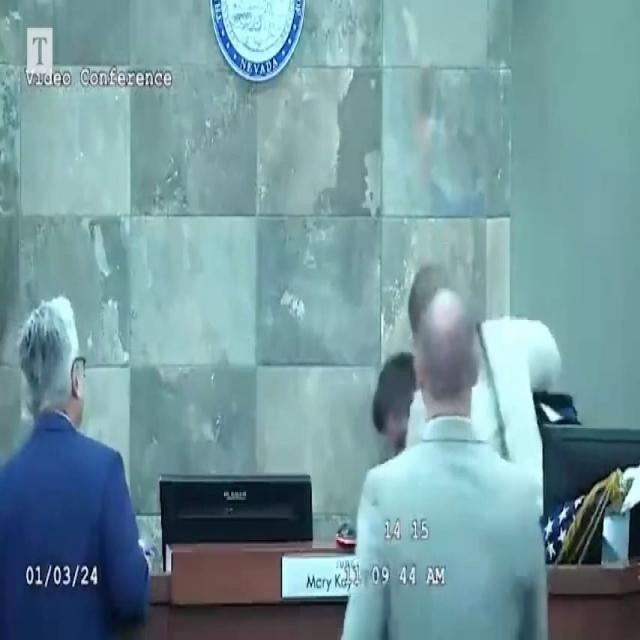fight: (341, 254, 571, 640)
non-fight: (0, 292, 152, 640)
